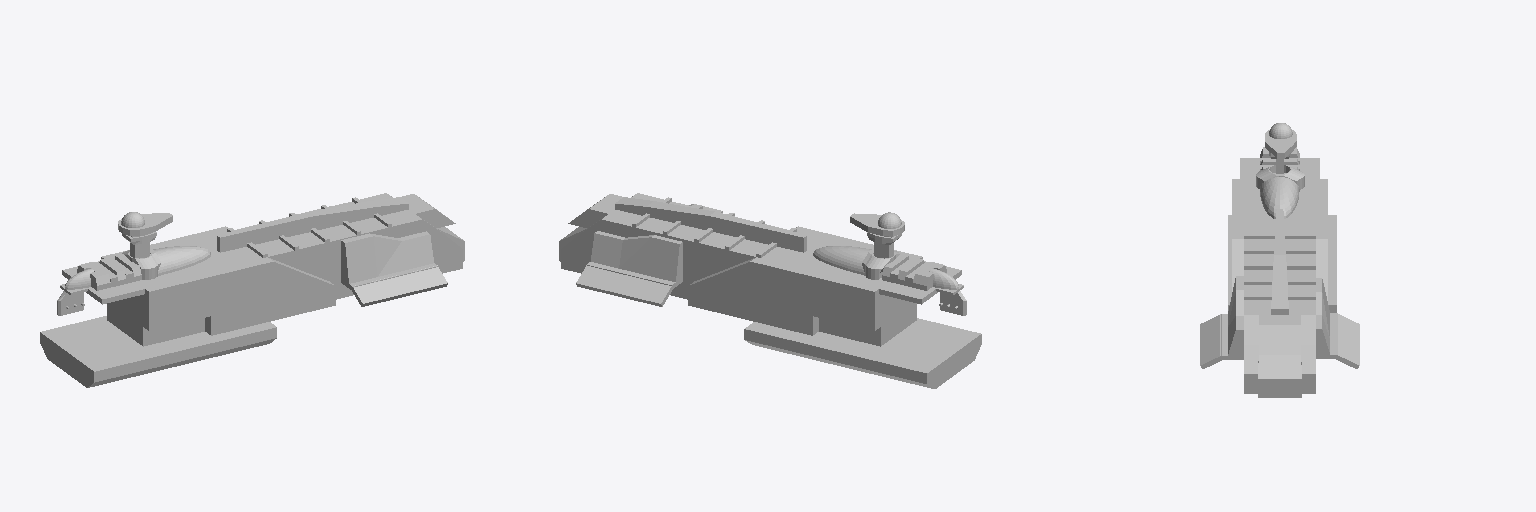
Rendered from LargeHull.obj.
The picture shows the model from 3 angles: view 1: azimuth 30°, elevation 25°; view 2: azimuth 150°, elevation 25°; view 3: azimuth 270°, elevation 25°; orthographic projection.
Visible parts, largest first — view 1: pCube112 polySurface122, pCube112 polySurface132, pCube112 polySurface123, pCube112 polySurface124, pCube112 polySurface11, pCube112 polySurface13, pCube112 polySurface9, pCube112 polySurface130, pCube112 polySurface12; view 2: pCube112 polySurface122, pCube112 polySurface132, pCube112 polySurface126, pCube112 polySurface125, pCube112 polySurface11, pCube112 polySurface13, pCube112 polySurface9, pCube112 polySurface130, pCube112 polySurface12; view 3: pCube112 polySurface122, pCube112 polySurface123, pCube112 polySurface126, pCube112 polySurface13, pCube112 polySurface132, pCube112 polySurface125, pCube112 polySurface124, pCube112 polySurface9, pCube112 polySurface12, pCube112 polySurface130.
Part boxes in pixels (left/top/right/bottom): pCube112 polySurface122: left=101, top=193, right=464, bottom=346; pCube112 polySurface132: left=40, top=316, right=276, bottom=387; pCube112 polySurface123: left=341, top=231, right=437, bottom=289; pCube112 polySurface124: left=351, top=265, right=447, bottom=306; pCube112 polySurface11: left=77, top=254, right=141, bottom=290; pCube112 polySurface13: left=150, top=246, right=210, bottom=275; pCube112 polySurface9: left=62, top=261, right=144, bottom=304; pCube112 polySurface130: left=118, top=213, right=172, bottom=235; pCube112 polySurface12: left=122, top=249, right=160, bottom=279; pCube112 polySurface122: left=559, top=193, right=922, bottom=346; pCube112 polySurface132: left=744, top=318, right=981, bottom=388; pCube112 polySurface126: left=587, top=231, right=682, bottom=288; pCube112 polySurface125: left=576, top=265, right=672, bottom=306; pCube112 polySurface11: left=882, top=254, right=946, bottom=290; pCube112 polySurface13: left=813, top=246, right=873, bottom=275; pCube112 polySurface9: left=879, top=261, right=961, bottom=304; pCube112 polySurface130: left=850, top=213, right=904, bottom=236; pCube112 polySurface12: left=862, top=249, right=900, bottom=279; pCube112 polySurface122: left=1232, top=179, right=1327, bottom=397; pCube112 polySurface123: left=1220, top=276, right=1243, bottom=359; pCube112 polySurface126: left=1316, top=278, right=1337, bottom=358; pCube112 polySurface13: left=1260, top=177, right=1299, bottom=218; pCube112 polySurface132: left=1228, top=215, right=1336, bottom=312; pCube112 polySurface125: left=1336, top=314, right=1359, bottom=368; pCube112 polySurface124: left=1200, top=314, right=1221, bottom=368; pCube112 polySurface9: left=1240, top=158, right=1319, bottom=178; pCube112 polySurface12: left=1256, top=165, right=1304, bottom=189; pCube112 polySurface130: left=1265, top=130, right=1296, bottom=158.
Size of the model in its own units: 19.13 by 6.7 by 6.65.